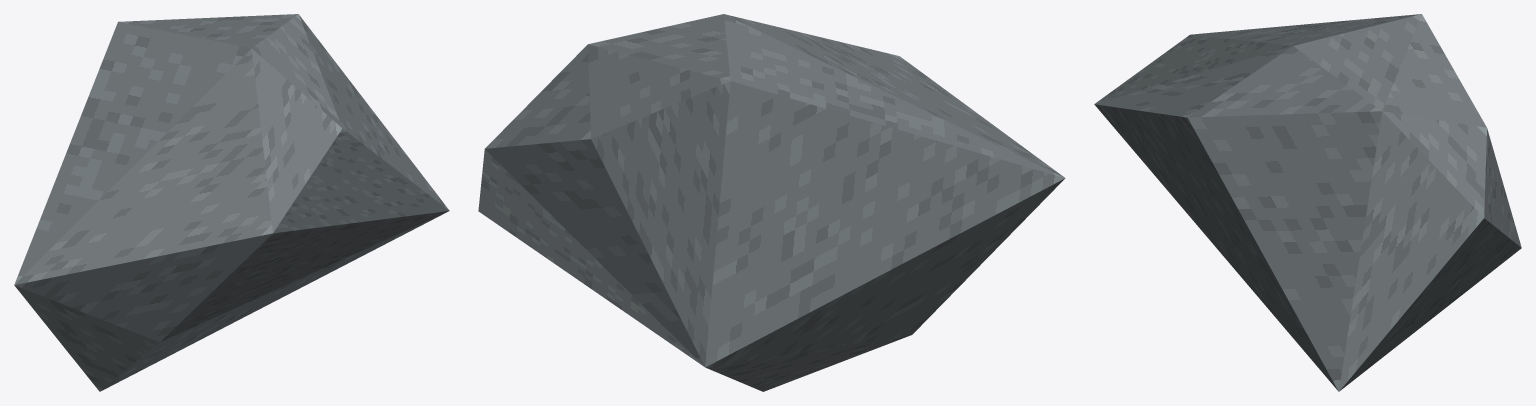
Rendered from scrap_cast_iron.glb.
3 renders of one model, left to right at view 1: azimuth 30°, elevation 25°; view 2: azimuth 150°, elevation 25°; view 3: azimuth 270°, elevation 25°, orthographic.
Parts seen in each view (by area): view 1: block_irregular metal; view 2: block_irregular metal; view 3: block_irregular metal.
Part boxes in pixels (bbox=[...]): block_irregular metal: bbox=[14, 14, 449, 391]; block_irregular metal: bbox=[478, 14, 1065, 391]; block_irregular metal: bbox=[1094, 14, 1521, 391].
Size of the model in its own units: 0.0362 by 0.0209 by 0.0259.
Materials: 1 (1 with a texture image).
